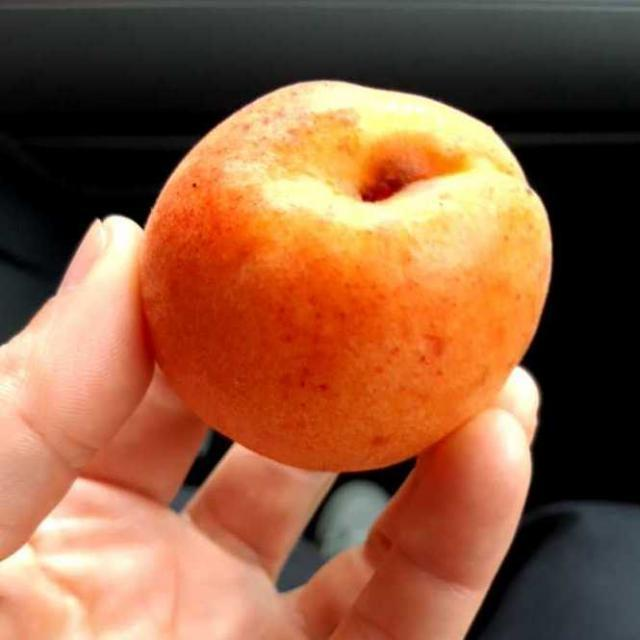apricots: (138, 87, 518, 467)
